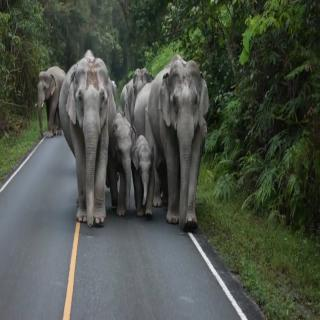Elephant: (148, 52, 211, 230), (59, 48, 116, 231), (110, 111, 137, 219), (35, 61, 69, 139), (132, 134, 158, 222)
